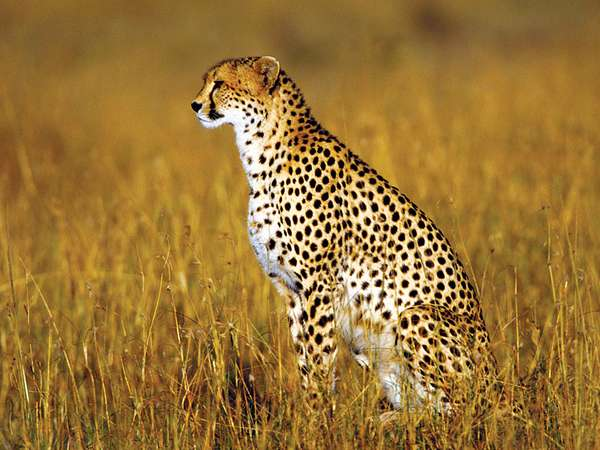Cheetah: (191, 54, 520, 420)
